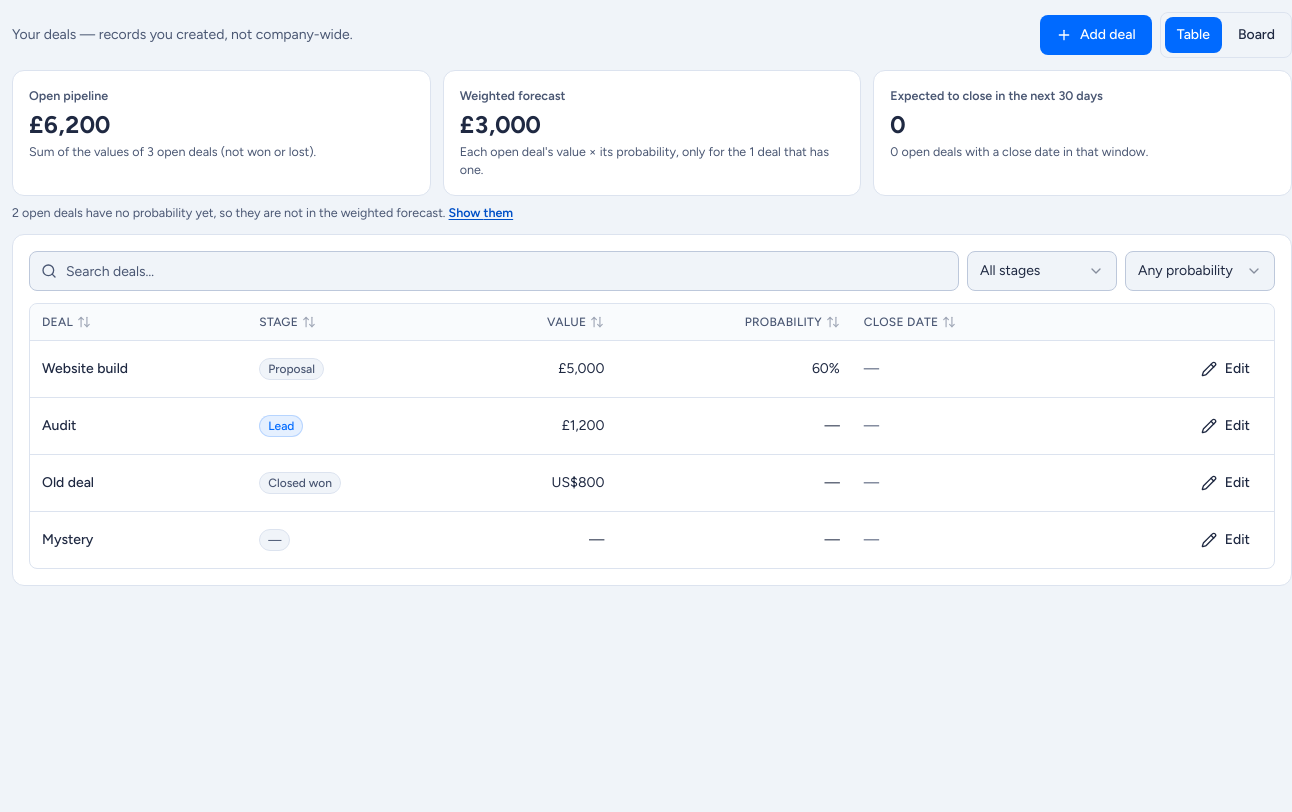
DealsView board › shows columns from the loaded stages in order, with counts, per-currency totals and card details
Step 1. Click the button "Board" → (1256, 35), box [1226, 17, 1287, 53]
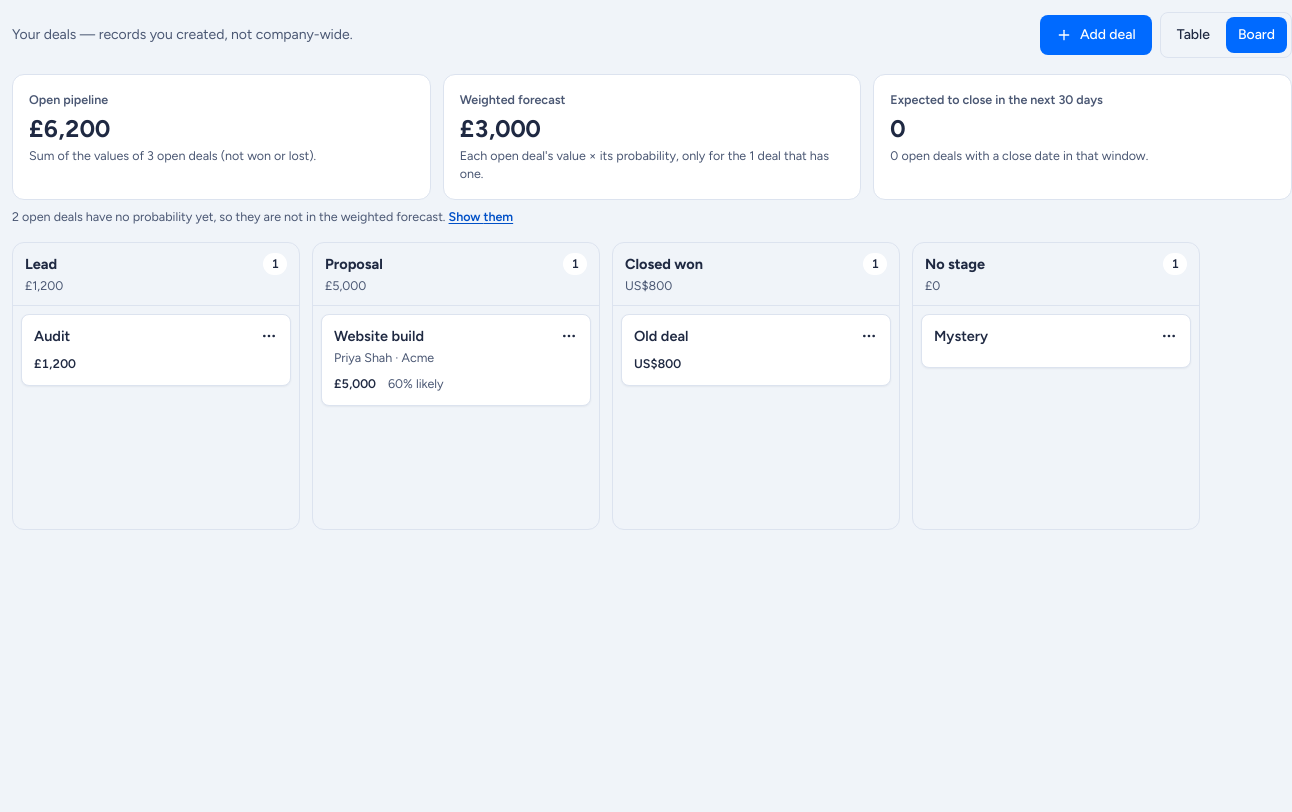
Check: the headings read "Lead", "Proposal", "Closed won", "No stage", in this order, box [25, 253, 57, 275]; [325, 253, 383, 275]; [625, 253, 703, 275]; [925, 253, 985, 275]
Check: the text named "1 deal" is shown, box [563, 253, 587, 275]
Check: the text "£5,000" is shown, box [324, 277, 387, 293]
